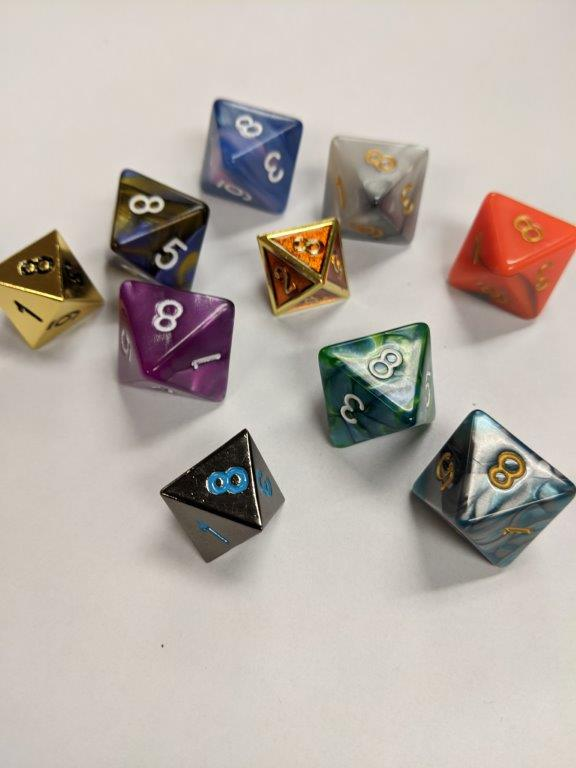d8-8: (411, 410, 576, 568), (161, 426, 288, 563), (448, 193, 576, 321), (117, 277, 233, 408), (320, 324, 437, 447), (322, 133, 431, 249), (1, 230, 101, 355), (199, 95, 300, 217), (111, 170, 213, 290), (255, 213, 350, 317)
